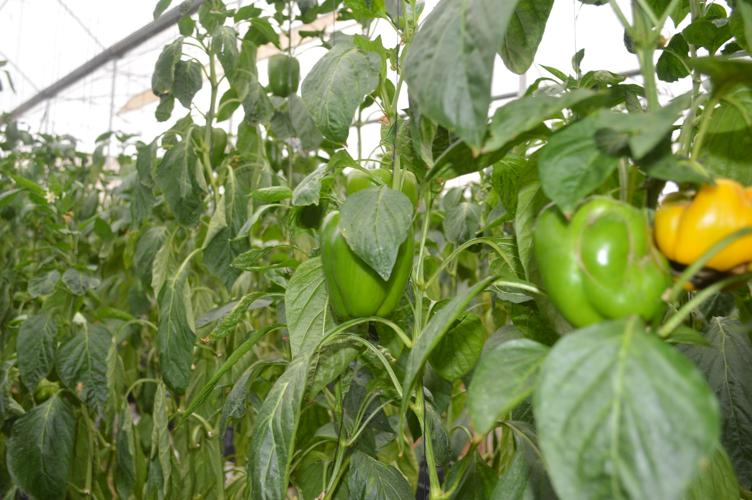BellPepper: (530, 197, 670, 327), (320, 210, 416, 322), (341, 165, 428, 204), (266, 57, 304, 96)
